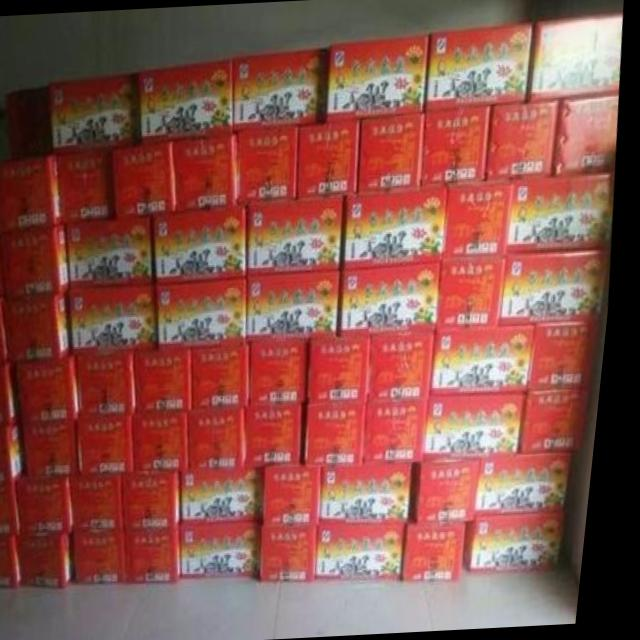box: (427, 24, 533, 111), (348, 183, 452, 270), (528, 9, 623, 103), (329, 33, 429, 122), (506, 250, 615, 327), (511, 175, 619, 252), (235, 48, 330, 132), (51, 70, 144, 155), (157, 202, 252, 284), (252, 197, 350, 275), (142, 59, 235, 141), (346, 262, 446, 335), (439, 325, 541, 395), (252, 270, 347, 343), (70, 214, 160, 288), (162, 277, 252, 350), (433, 393, 534, 457), (476, 510, 577, 571), (74, 285, 164, 351), (486, 454, 581, 515), (4, 222, 76, 300), (489, 101, 560, 180), (448, 178, 518, 257), (330, 464, 423, 522), (556, 96, 621, 178), (425, 106, 491, 186), (360, 113, 426, 191), (116, 140, 182, 218), (0, 154, 66, 231), (330, 522, 416, 579), (11, 290, 80, 361), (175, 135, 241, 209), (376, 328, 442, 402), (239, 126, 301, 203), (300, 120, 361, 198), (444, 253, 510, 325), (528, 388, 600, 453), (21, 354, 88, 423), (537, 323, 605, 390), (421, 457, 490, 523), (192, 521, 271, 578), (191, 468, 274, 522), (59, 148, 120, 220), (373, 397, 436, 466), (316, 333, 378, 403), (81, 351, 145, 415), (416, 518, 478, 580), (196, 406, 256, 470), (315, 403, 375, 466), (258, 340, 315, 406), (255, 403, 313, 467), (199, 347, 257, 409), (142, 349, 200, 411), (87, 410, 143, 473), (24, 476, 84, 534), (7, 85, 54, 159), (141, 411, 198, 472), (274, 466, 331, 525), (132, 472, 192, 528), (272, 524, 329, 581), (134, 529, 193, 584), (31, 420, 89, 475), (83, 528, 139, 584), (79, 472, 134, 529), (27, 533, 85, 587), (0, 425, 34, 481), (0, 361, 28, 424), (0, 536, 34, 586), (0, 481, 30, 535), (0, 297, 17, 362), (0, 231, 11, 297)
